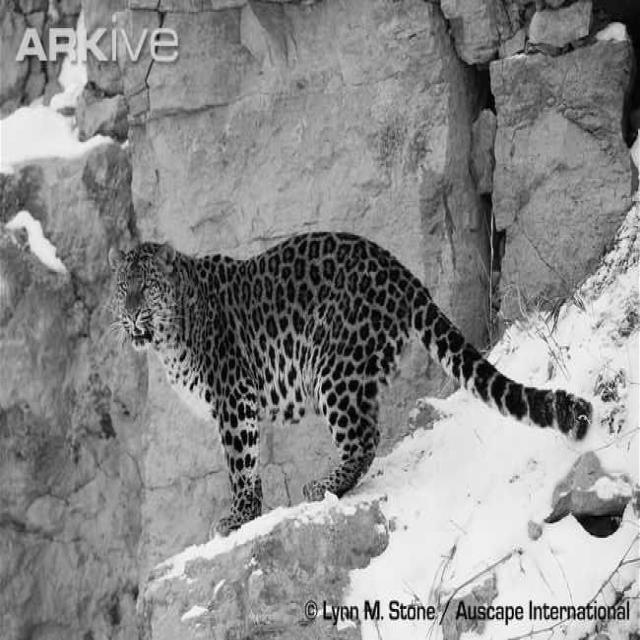Leopard: (106, 228, 593, 535)
